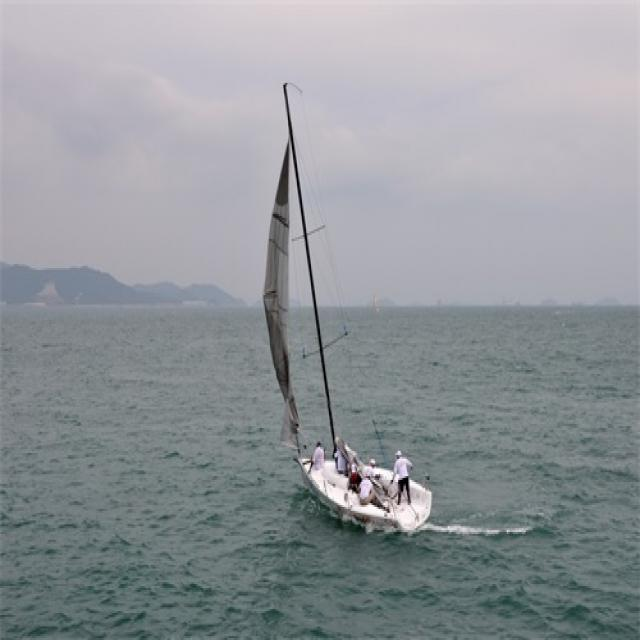Ship: (266, 76, 435, 541)
